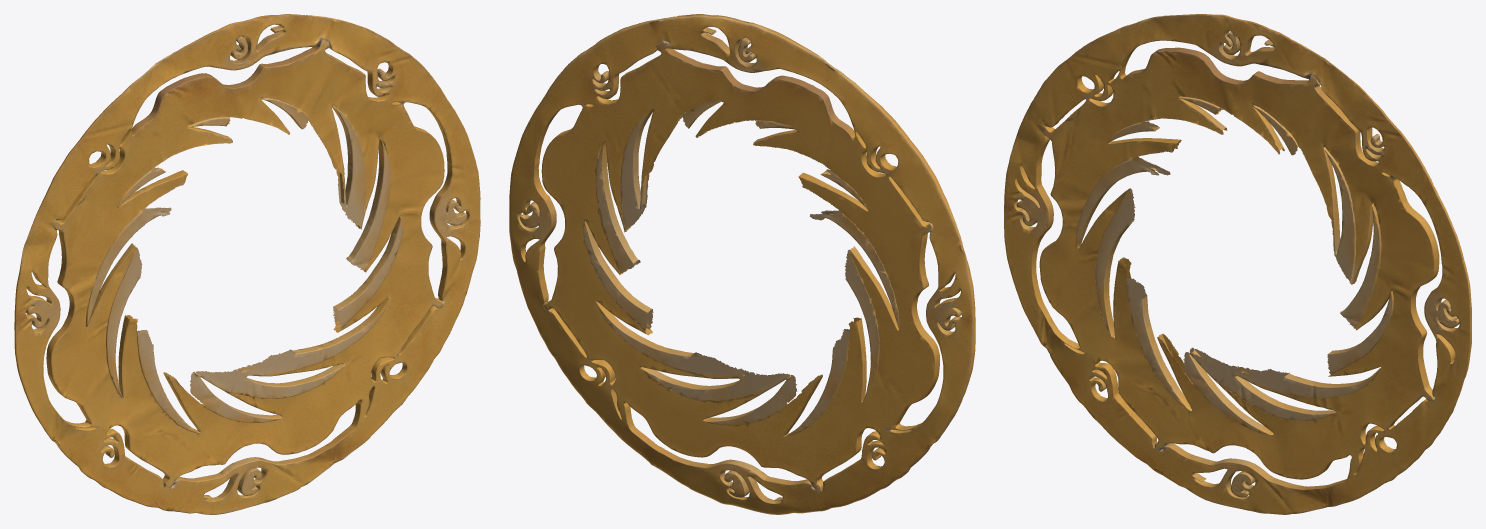
Rendered from third-sunbird-emblem.glb.
The picture shows the model from 3 angles, left to right: view 1: azimuth 30°, elevation 25°; view 2: azimuth 150°, elevation 25°; view 3: azimuth 330°, elevation 25°; orthographic projection.
Visible parts, largest first — view 1: third-sunbird-emblem; view 2: third-sunbird-emblem; view 3: third-sunbird-emblem.
Part boxes in pixels (x1,y1,x2,y2): third-sunbird-emblem: (14, 14, 480, 514); third-sunbird-emblem: (509, 14, 975, 514); third-sunbird-emblem: (1004, 14, 1471, 514).
Size of the model in its own units: 0.9774 by 0.9786 by 0.0199.
1 material, 1 textured.
